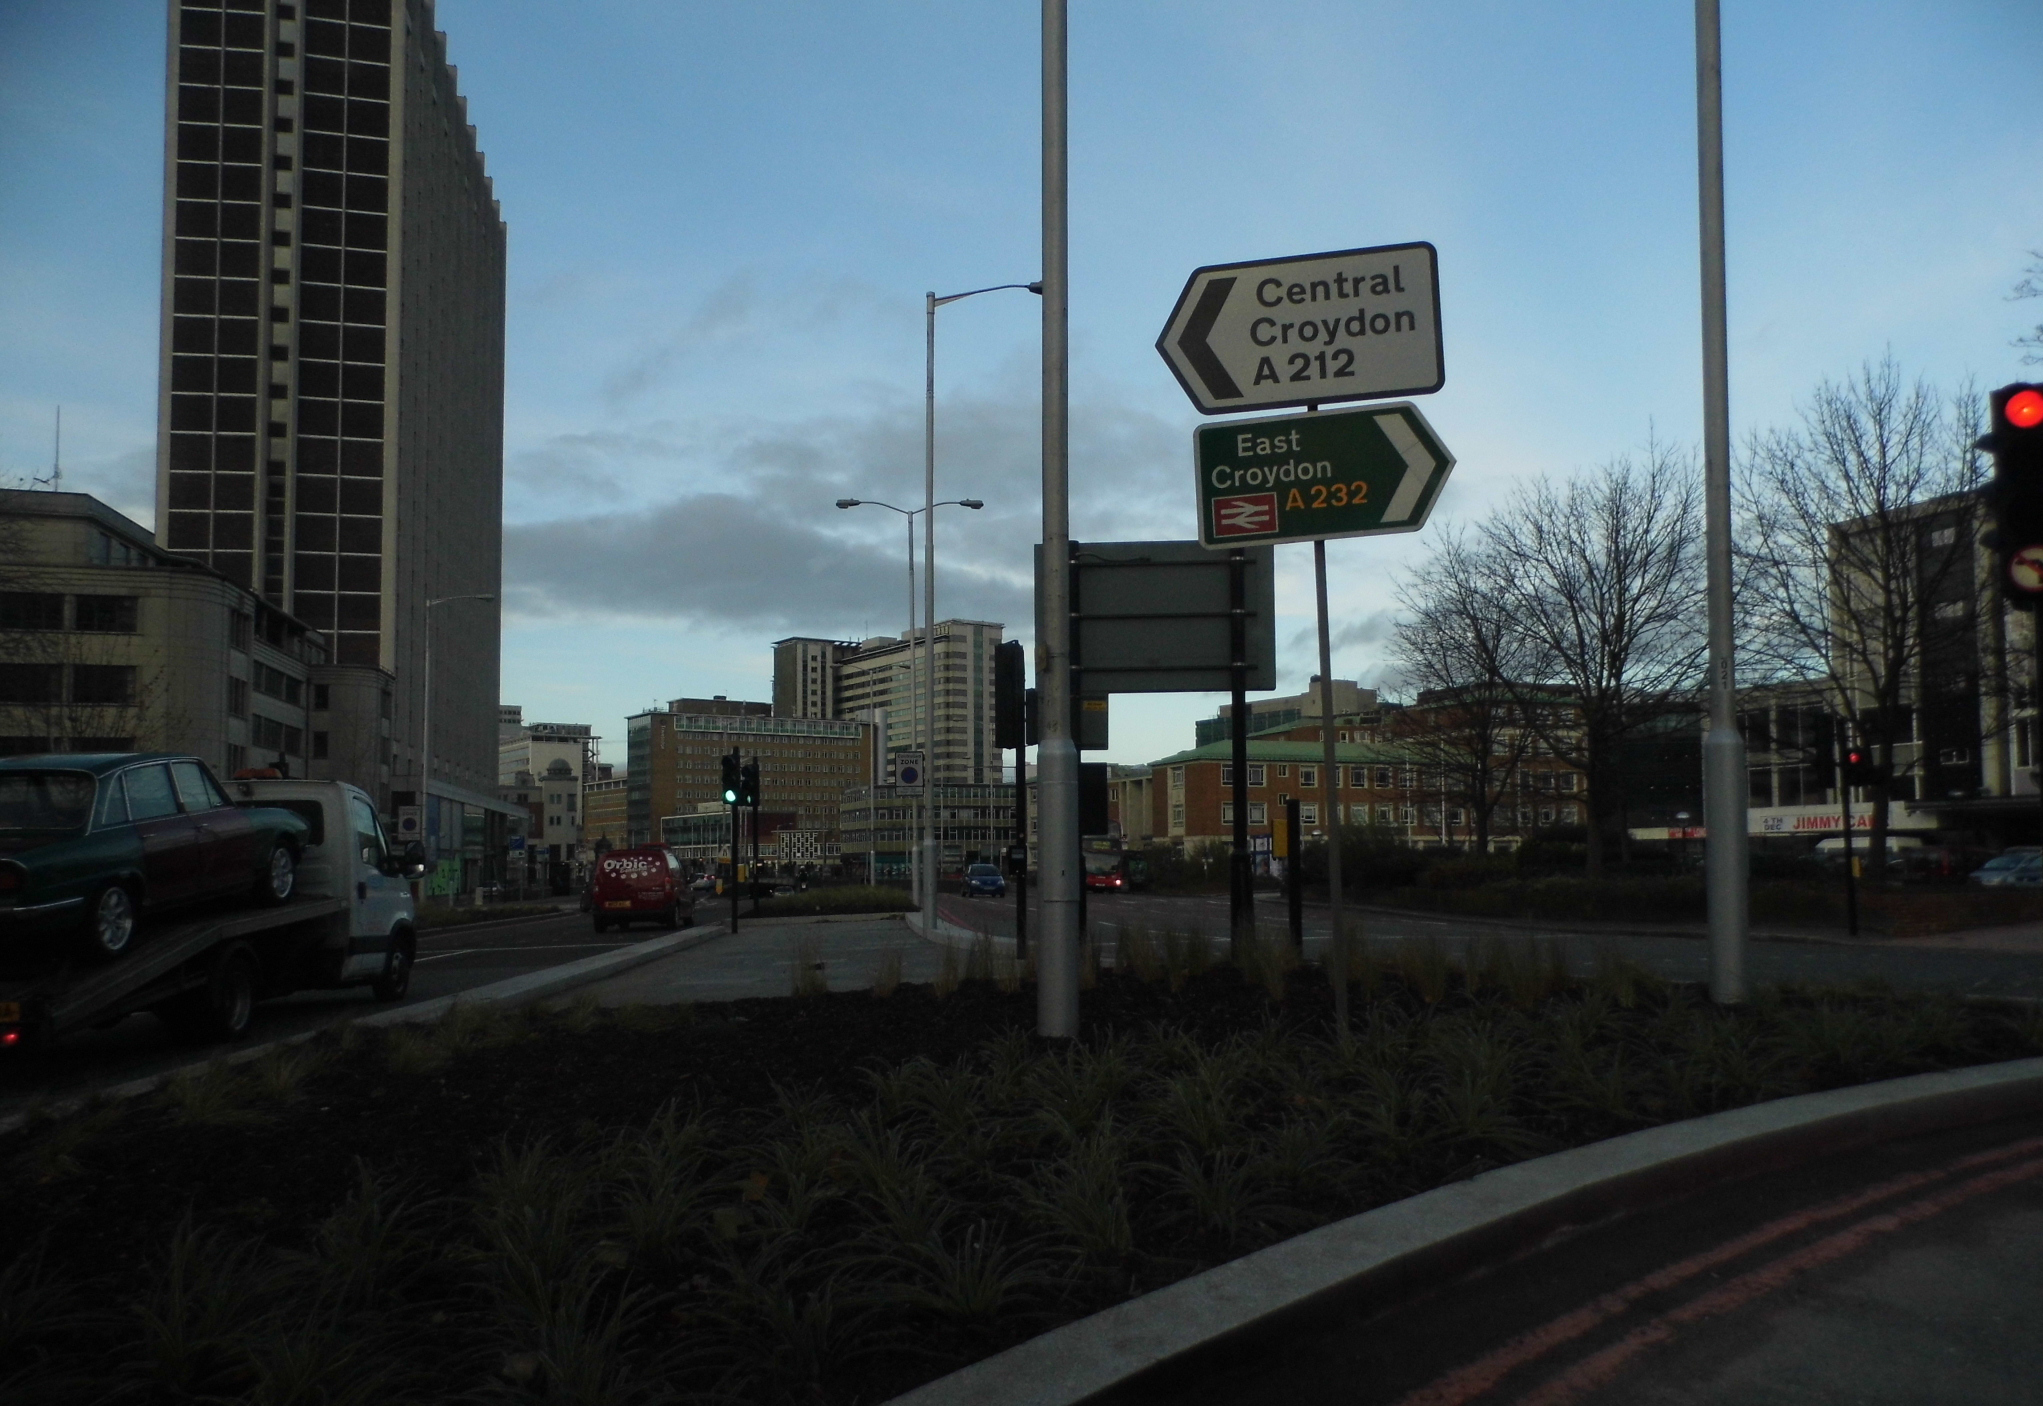mobil: (2, 734, 314, 1012)
